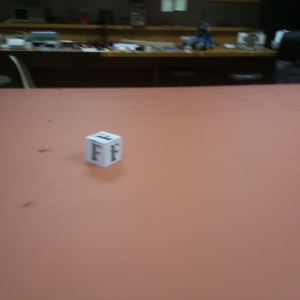blockF: (86, 130, 123, 169)
